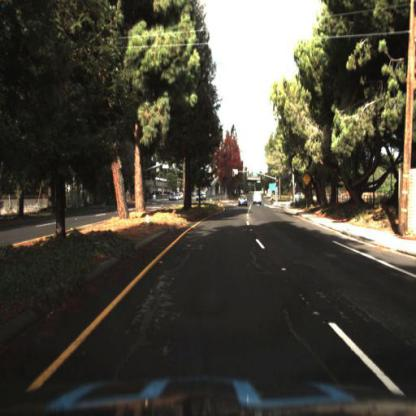car: (252, 190, 263, 207), (239, 195, 251, 207)
trafficLight-Red: (276, 177, 281, 187)
